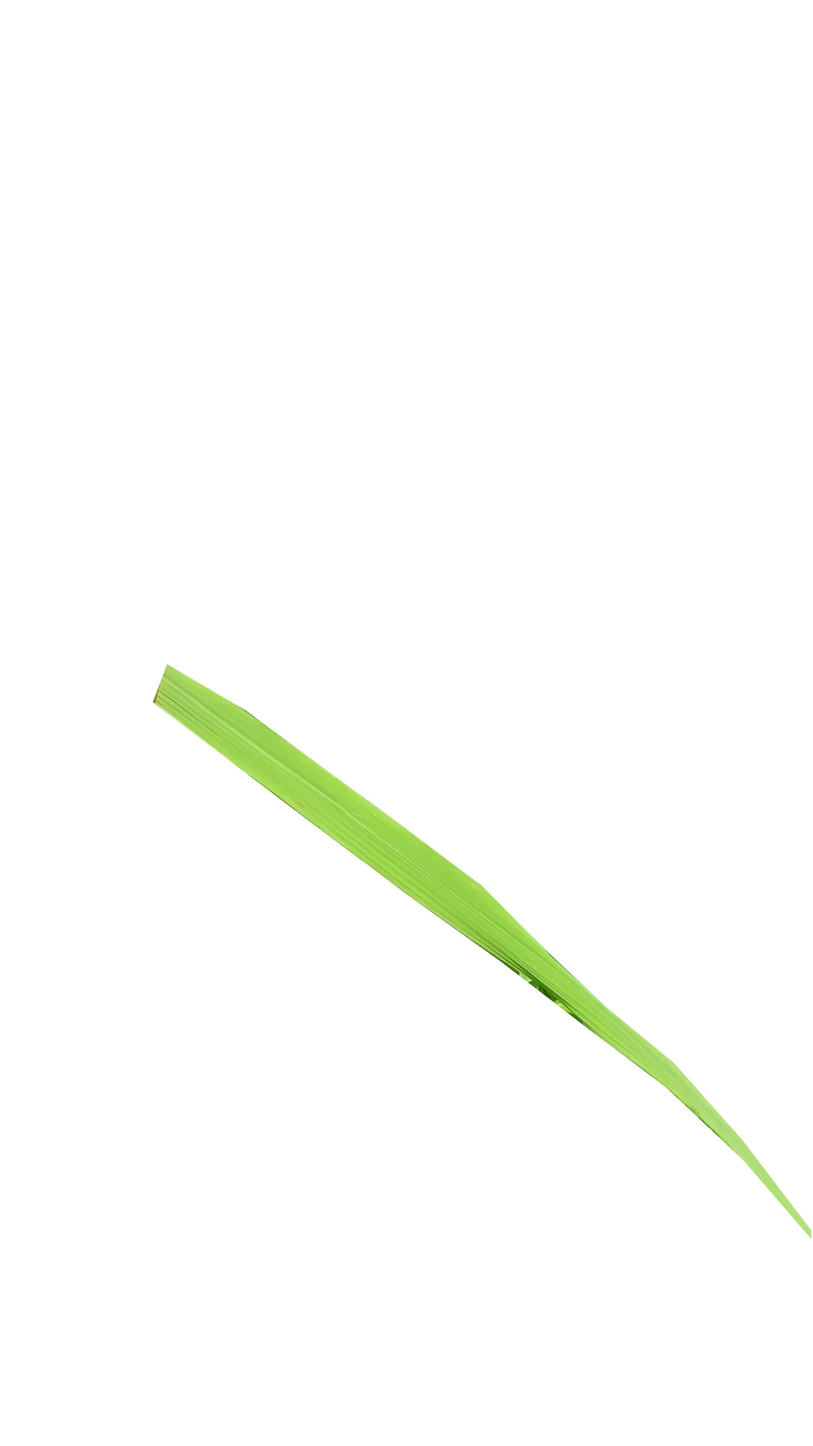Tungro: (151, 665, 813, 1248)
